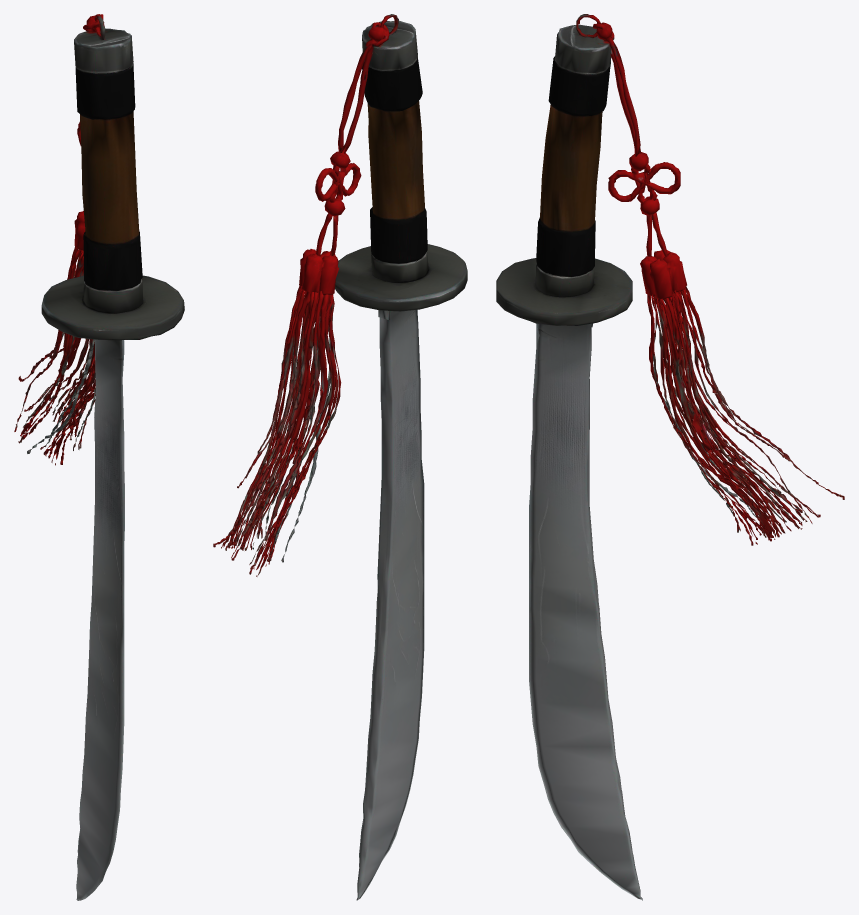
File: e3ada42a-9aa6-4171-bdff-49c2d9dfbf22_model.glb
The picture shows the model from 3 angles, left to right: view 1: azimuth 30°, elevation 25°; view 2: azimuth 150°, elevation 25°; view 3: azimuth 270°, elevation 25°; orthographic projection. The views are drawn at different scales.
Parts seen in each view (by area): view 1: tripo_node_e3ada42a-9aa6-4171-bdff-49c2d9dfbf22; view 2: tripo_node_e3ada42a-9aa6-4171-bdff-49c2d9dfbf22; view 3: tripo_node_e3ada42a-9aa6-4171-bdff-49c2d9dfbf22.
Part boxes in pixels (<box>): tripo_node_e3ada42a-9aa6-4171-bdff-49c2d9dfbf22: <box>14,14,184,900</box>; tripo_node_e3ada42a-9aa6-4171-bdff-49c2d9dfbf22: <box>213,14,467,900</box>; tripo_node_e3ada42a-9aa6-4171-bdff-49c2d9dfbf22: <box>496,14,844,900</box>.
Size of the model in its own units: 0.0987 by 0.65 by 0.2326.
1 material, 1 textured.
